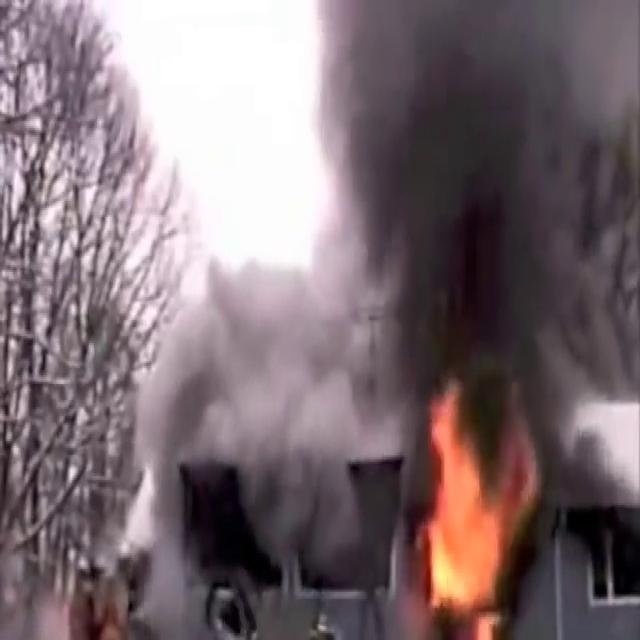Fire: (414, 383, 512, 636)
Smoke: (249, 0, 640, 484)
